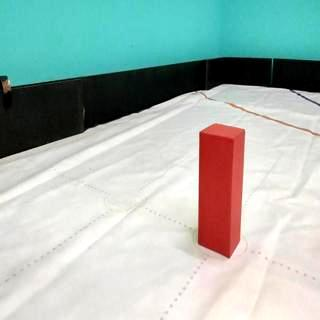redbox: (198, 122, 245, 258)
